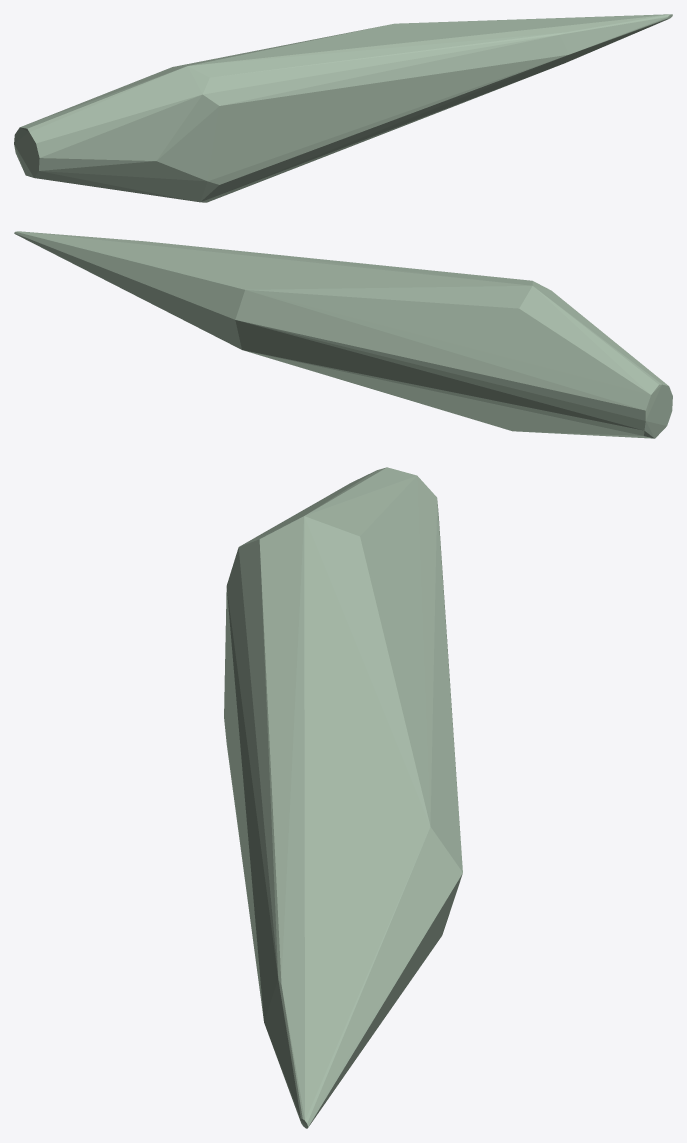
The model's file is syringe_insulin_a02.glb.
The picture shows the model from 3 angles, top to bottom: view 1: azimuth 30°, elevation 25°; view 2: azimuth 150°, elevation 25°; view 3: azimuth 270°, elevation 25°; orthographic projection. The views are drawn at different scales.
Parts seen in each view (by area): view 1: geometry_0; view 2: geometry_0; view 3: geometry_0.
Boxes of the visible parts, x1,y1,x2,y2 form: geometry_0: [14, 14, 672, 202]; geometry_0: [14, 231, 672, 438]; geometry_0: [224, 467, 462, 1128].
Size of the model in its own units: 0.4799 by 0.0979 by 0.0793.
